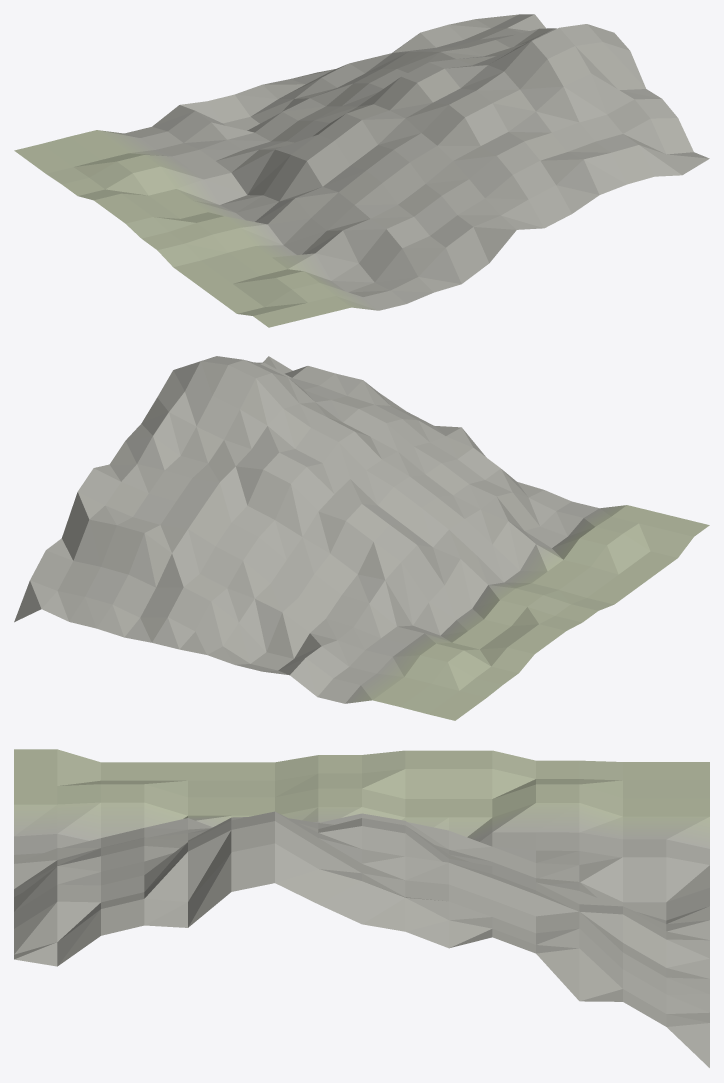
The picture shows the model from 3 angles, top to bottom: view 1: azimuth 30°, elevation 25°; view 2: azimuth 150°, elevation 25°; view 3: azimuth 270°, elevation 25°; orthographic projection. The views are drawn at different scales.
Size of the model in its own units: 32 by 10.86 by 32.
